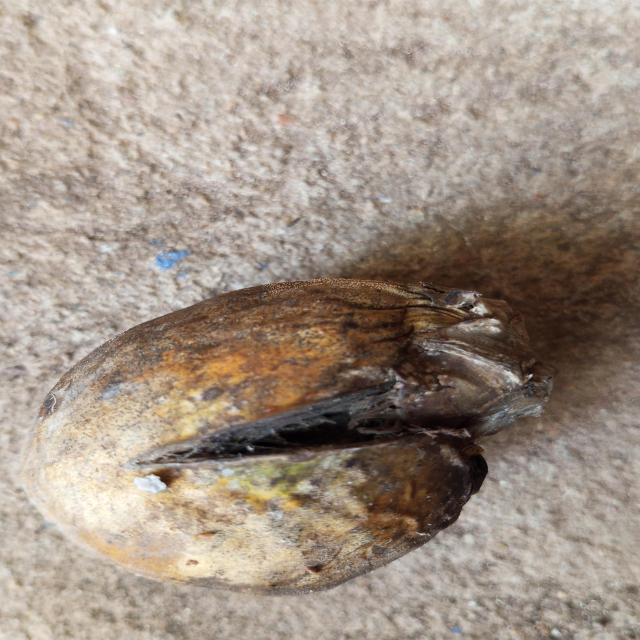damaged: (23, 279, 552, 595)
